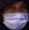with_mask: (2, 2, 29, 30)
